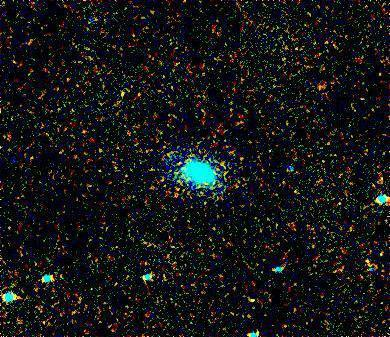star: (167, 143, 197, 173)
